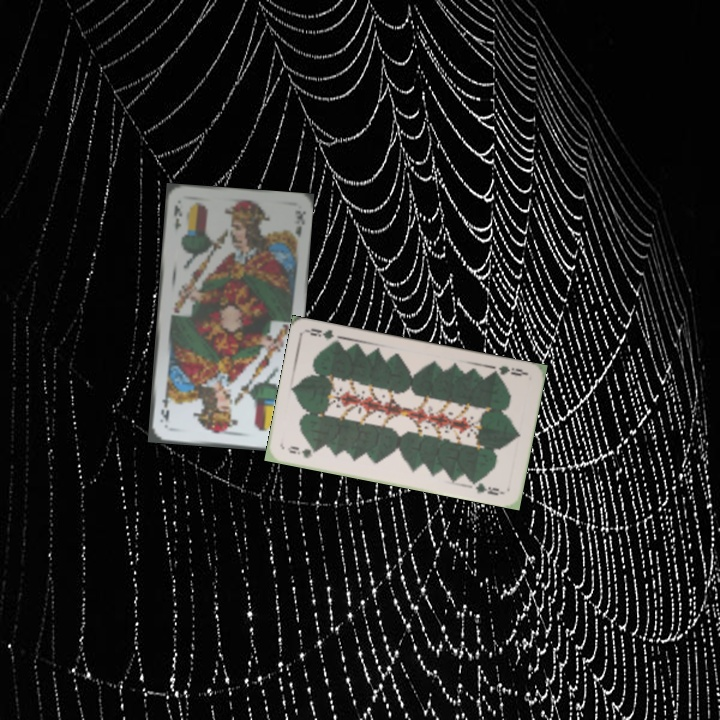EK: (169, 201, 185, 232)
G9: (488, 361, 529, 379), (283, 442, 320, 460)
